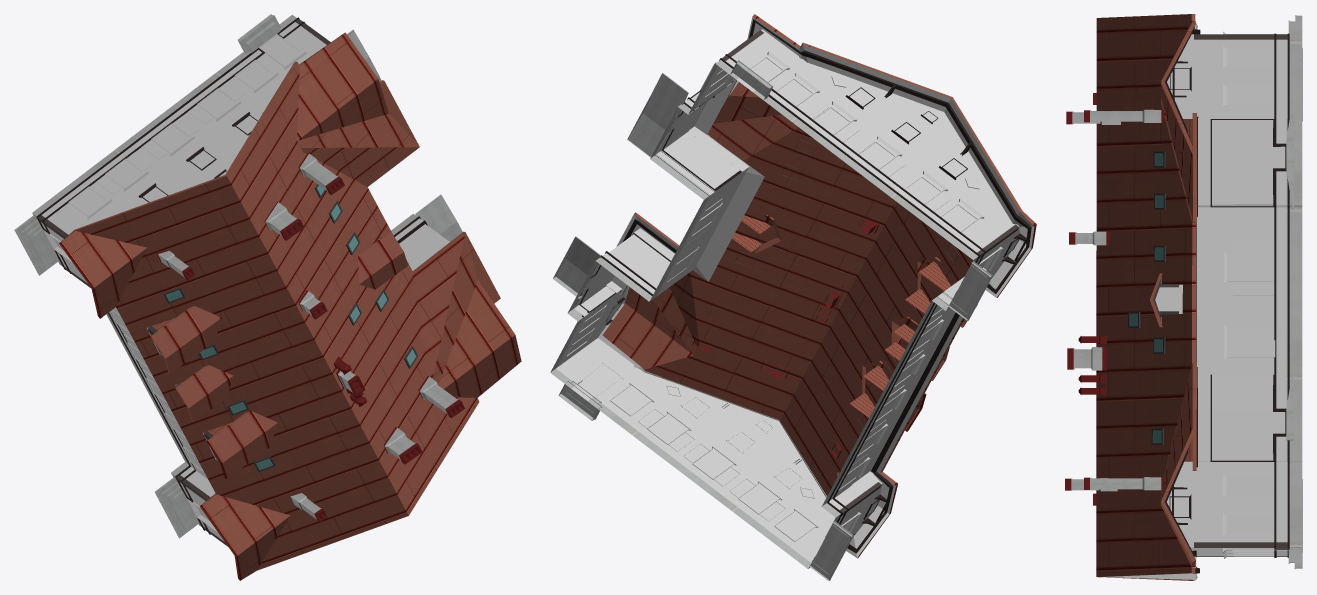
File: Toompuiestee-10.obj
3 views of the same model, side by side, from view 1: azimuth 30°, elevation 25°; view 2: azimuth 150°, elevation 25°; view 3: azimuth 270°, elevation 25° (orthographic). The views are drawn at different scales.
Parts seen in each view (by area): view 1: house_2; view 2: house_2; view 3: house_2.
Boxes of the visible parts, x1,y1,x2,y2 form: house_2: (14, 14, 521, 580); house_2: (550, 14, 1036, 580); house_2: (1065, 14, 1302, 580).
Bounding box in the file's own units: 31.19 × 33.81 × 11.78.
